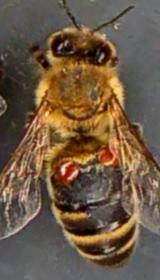varroa_mite: (48, 148, 86, 188), (84, 143, 124, 173)
